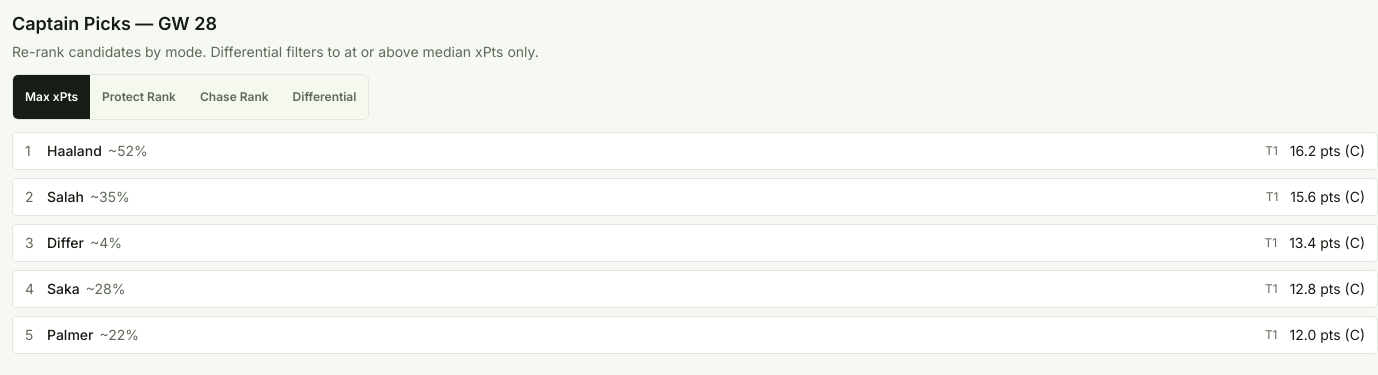
it: CaptainPicksPanel — Phase 57 › badge appears for high-EO non-squad players when authenticated + protect_rank
Click the button with test id "eo-toggle-protect-rank".
click(139, 97)  # box 90,75 -> 188,119
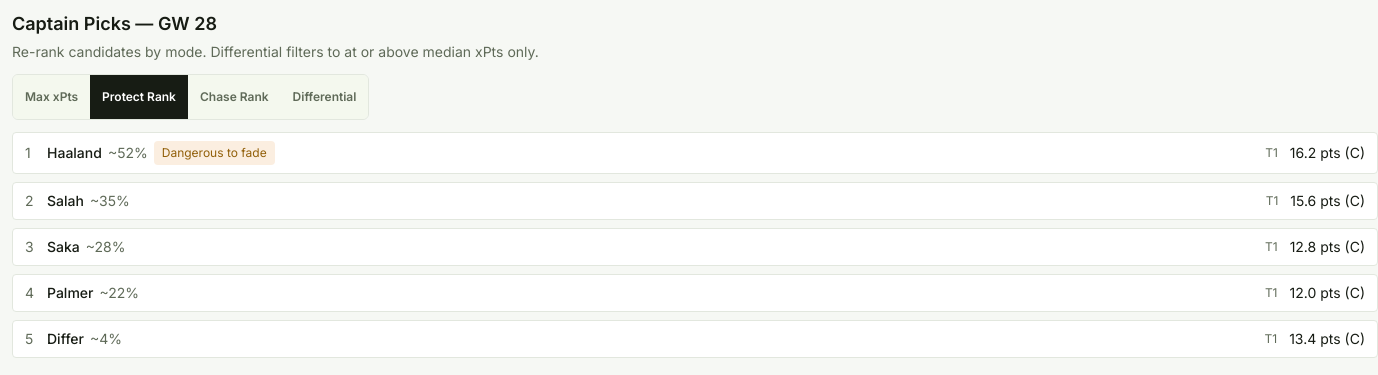
Expected: the element with test id "eo-candidate-row" does not show "Dangerous to fade"
Now the element with test id "eo-candidate-row" shows "Dangerous to fade", box 162,145 -> 267,160
